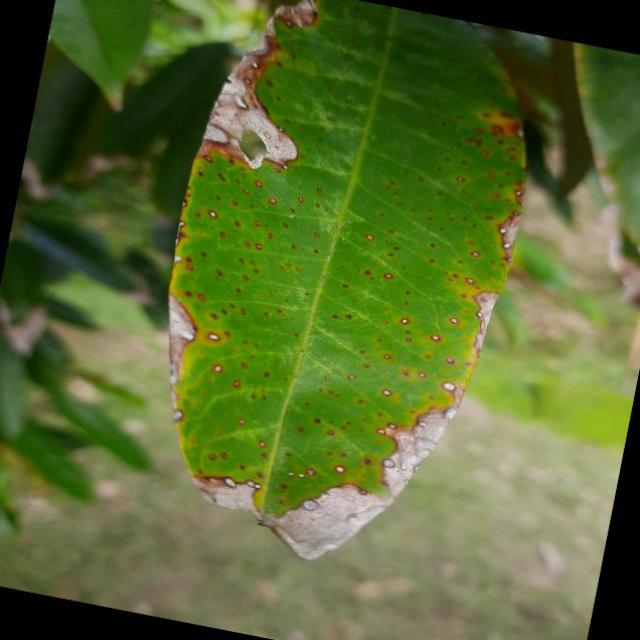Leaf Spot: (108, 0, 570, 592)
